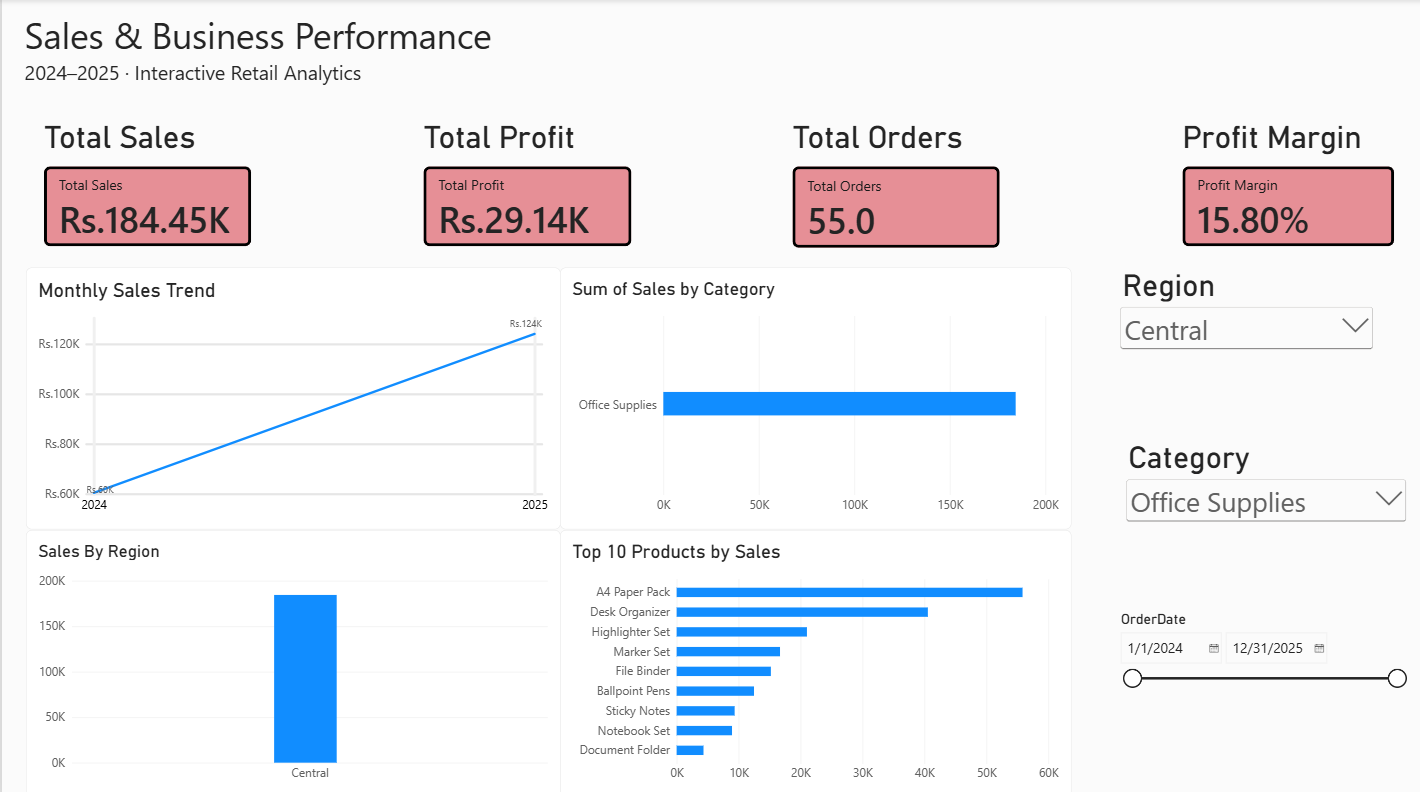

Layout of this report page (visuals, bound fields, positions):
{"tool":"powerbi","page":{"name":"Page 1","canvas":[1920,1080],"ordinal":0},"visuals":[{"type":"cardVisual","title":"Total Sales","fields":{"Data":["sales_data.Total Sales Revenue"]},"box":[56.7,161.6,280.6,172.9],"z":0},{"type":"cardVisual","title":"Total Profit","fields":{"Data":["sales_data.Total Profit"]},"box":[569.8,161.6,281.6,172.6],"z":1000},{"type":"cardVisual","title":"Profit Margin","fields":{"Data":["sales_data.Profit Margin"]},"box":[1595.9,161.6,286.3,172.9],"z":2000},{"type":"cardVisual","title":"Total Orders","fields":{"Data":["sales_data.Total Orders"]},"box":[1068.6,162.9,280,174.3],"z":3000},{"type":"lineChart","title":"Monthly Sales Trend","fields":{"Category":["sales_data.OrderDate.Variation.Date Hierarchy.Year","sales_data.OrderDate.Variation.Date Hierarchy.Month","sales_data.OrderDate Hierarchy.OrderDate"],"Y":["sales_data.Total Sales "]},"box":[31.4,362.9,722.9,354.3],"z":4000},{"type":"clusteredBarChart","title":"Sum of Sales by Category","fields":{"Category":["sales_data.Category"],"Y":["Sum(sales_data.Sales)"]},"box":[754.3,362.9,691.4,354.3],"z":5000},{"type":"clusteredColumnChart","title":"Sales By Region","fields":{"Category":["sales_data.Region"],"Y":["Sum(sales_data.Sales)"]},"box":[31.4,717.1,722.9,362.9],"z":6000},{"type":"clusteredBarChart","title":"Top 10 Products by Sales","fields":{"Category":["sales_data.ProductName"],"Y":["Sum(sales_data.Sales)"]},"box":[754.3,717.1,691.4,362.9],"z":7000},{"type":"textbox","box":[31.2,17,677.5,130.4],"z":8000},{"type":"slicer","fields":{"Values":["sales_data.Region"]},"box":[1505.7,362.9,351.4,165.7],"z":9000},{"type":"slicer","fields":{"Values":["sales_data.Category"]},"box":[1514,596,388.6,151.4],"z":10000},{"type":"slicer","fields":{"Values":["sales_data.OrderDate"]},"box":[1505,827.5,397.5,142.5],"z":11000}]}

Visuals, with their boxes in screenshot pixels (x1, y1, x2, y2), scaled from the page's 1920x1080 canvas onto the 1420x792 screenshot:
"Total Sales" cardVisual: bbox=[42, 119, 249, 245]
"Total Profit" cardVisual: bbox=[421, 119, 630, 245]
"Profit Margin" cardVisual: bbox=[1180, 119, 1392, 245]
"Total Orders" cardVisual: bbox=[790, 119, 997, 247]
"Monthly Sales Trend" lineChart: bbox=[23, 266, 558, 526]
"Sum of Sales by Category" clusteredBarChart: bbox=[558, 266, 1069, 526]
"Sales By Region" clusteredColumnChart: bbox=[23, 526, 558, 791]
"Top 10 Products by Sales" clusteredBarChart: bbox=[558, 526, 1069, 791]
textbox: bbox=[23, 12, 524, 108]
slicer - sales_data.Region: bbox=[1114, 266, 1373, 388]
slicer - sales_data.Category: bbox=[1120, 437, 1407, 548]
slicer - sales_data.OrderDate: bbox=[1113, 607, 1407, 711]
